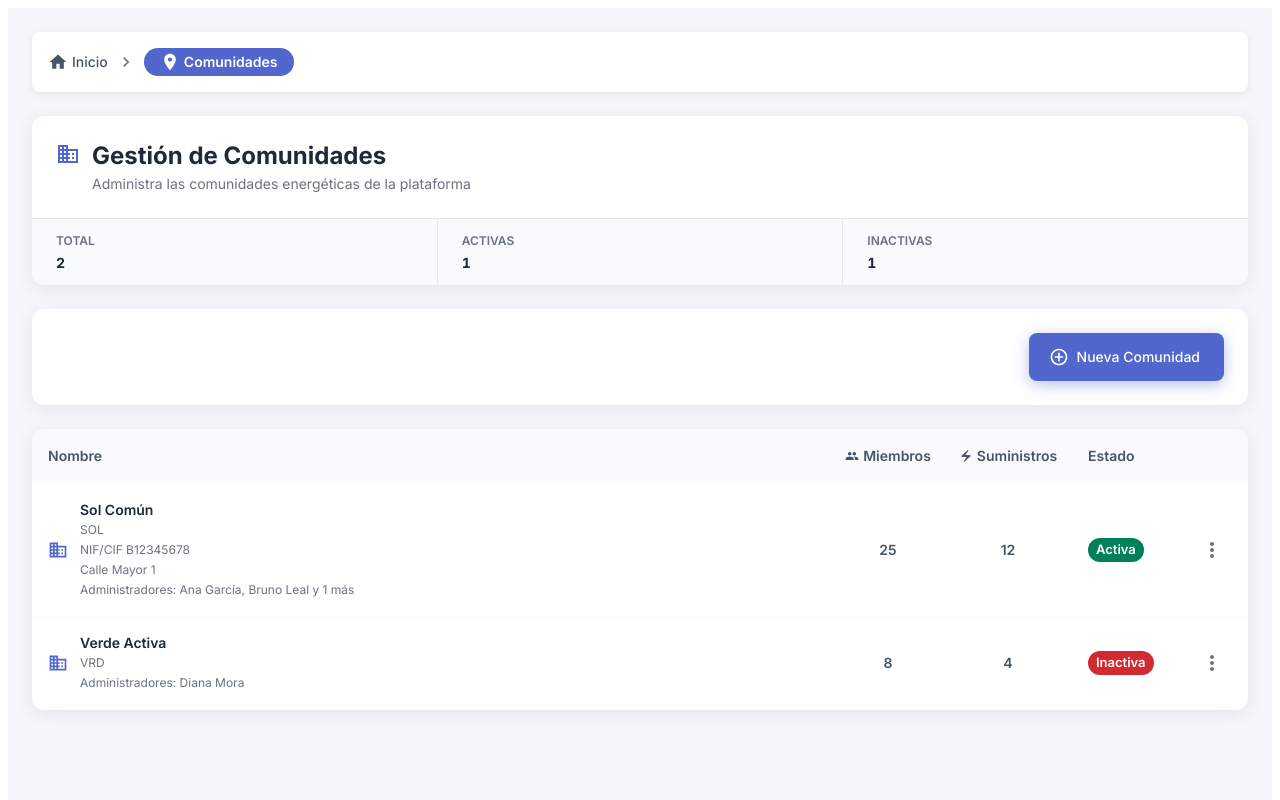
CommunitiesPage › the row menu › offers both items to a platform admin
This screenshot has width=1280, height=800.
Click the button named "Más acciones para Sol Común": coordinates (1212, 550) [1195, 533, 1229, 567]
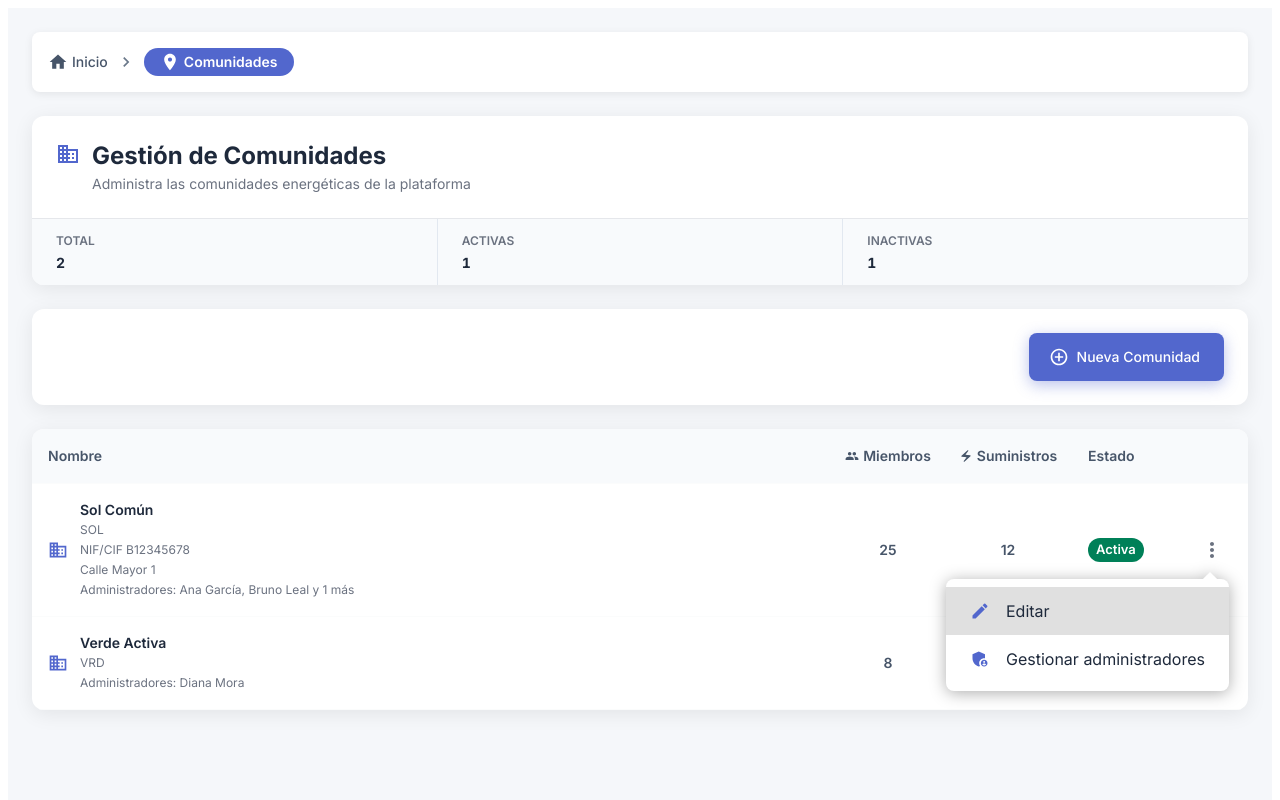
Expected: the menu item "Editar" is shown, [946, 587, 1229, 635]
Expected: the menu item "Gestionar administradores" is shown, [970, 649, 1205, 669]
